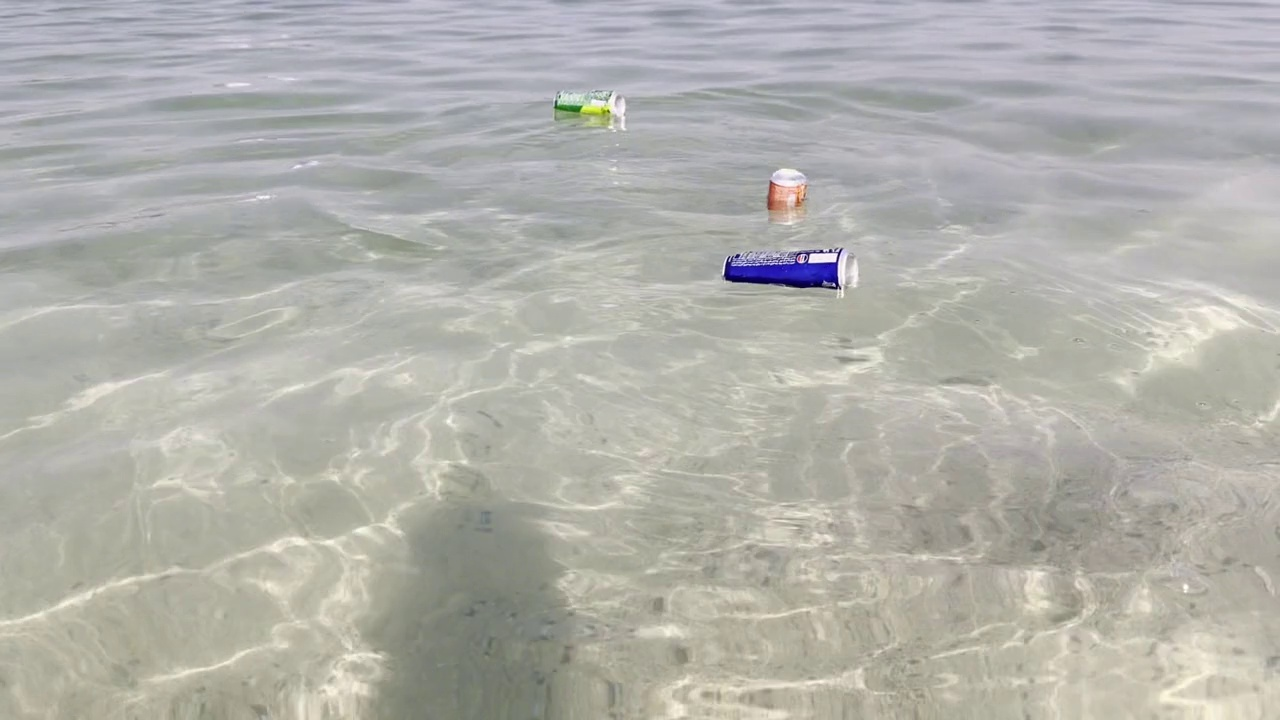debris: (718, 244, 863, 299), (551, 84, 630, 125), (763, 161, 811, 222)
